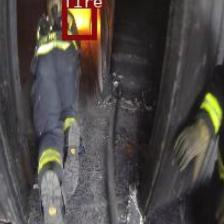fire: (61, 0, 95, 38)
